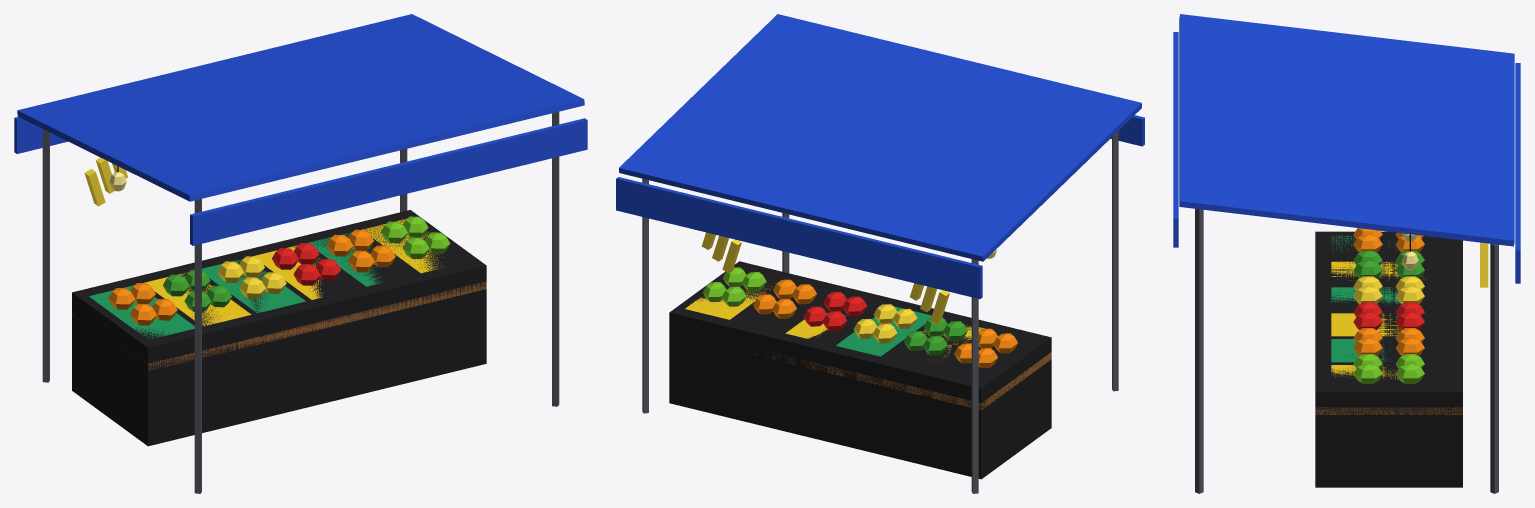
File: env_market_canopy_blue.fbx
3 renders of one model, left to right at view 1: azimuth 30°, elevation 25°; view 2: azimuth 150°, elevation 25°; view 3: azimuth 270°, elevation 25°, orthographic. The views are drawn at different scales.
Parts seen in each view (by area): view 1: env_market_canopy_blue_geo_LOD0, COL_env_market_canopy_blue; view 2: env_market_canopy_blue_geo_LOD0, COL_env_market_canopy_blue; view 3: env_market_canopy_blue_geo_LOD0, COL_env_market_canopy_blue.
Part boxes in pixels (x1=…): env_market_canopy_blue_geo_LOD0: x1=14, y1=14, x2=587, y2=493; COL_env_market_canopy_blue: x1=72, y1=210, x2=486, y2=446; env_market_canopy_blue_geo_LOD0: x1=616, y1=14, x2=1144, y2=493; COL_env_market_canopy_blue: x1=669, y1=261, x2=1051, y2=479; env_market_canopy_blue_geo_LOD0: x1=1173, y1=14, x2=1520, y2=493; COL_env_market_canopy_blue: x1=1315, y1=231, x2=1462, y2=487.
Size of what is drawn, in the model's own units: 4.2 by 3.14 by 3.29.
